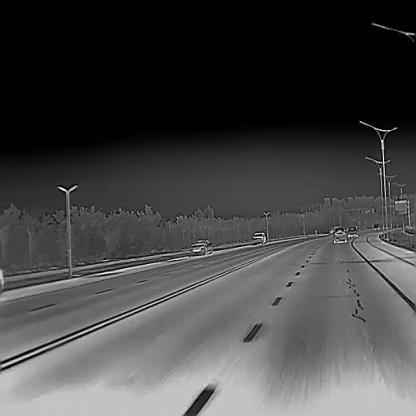car: (189, 238, 212, 255), (333, 227, 347, 243), (252, 232, 265, 244), (347, 226, 358, 237)
